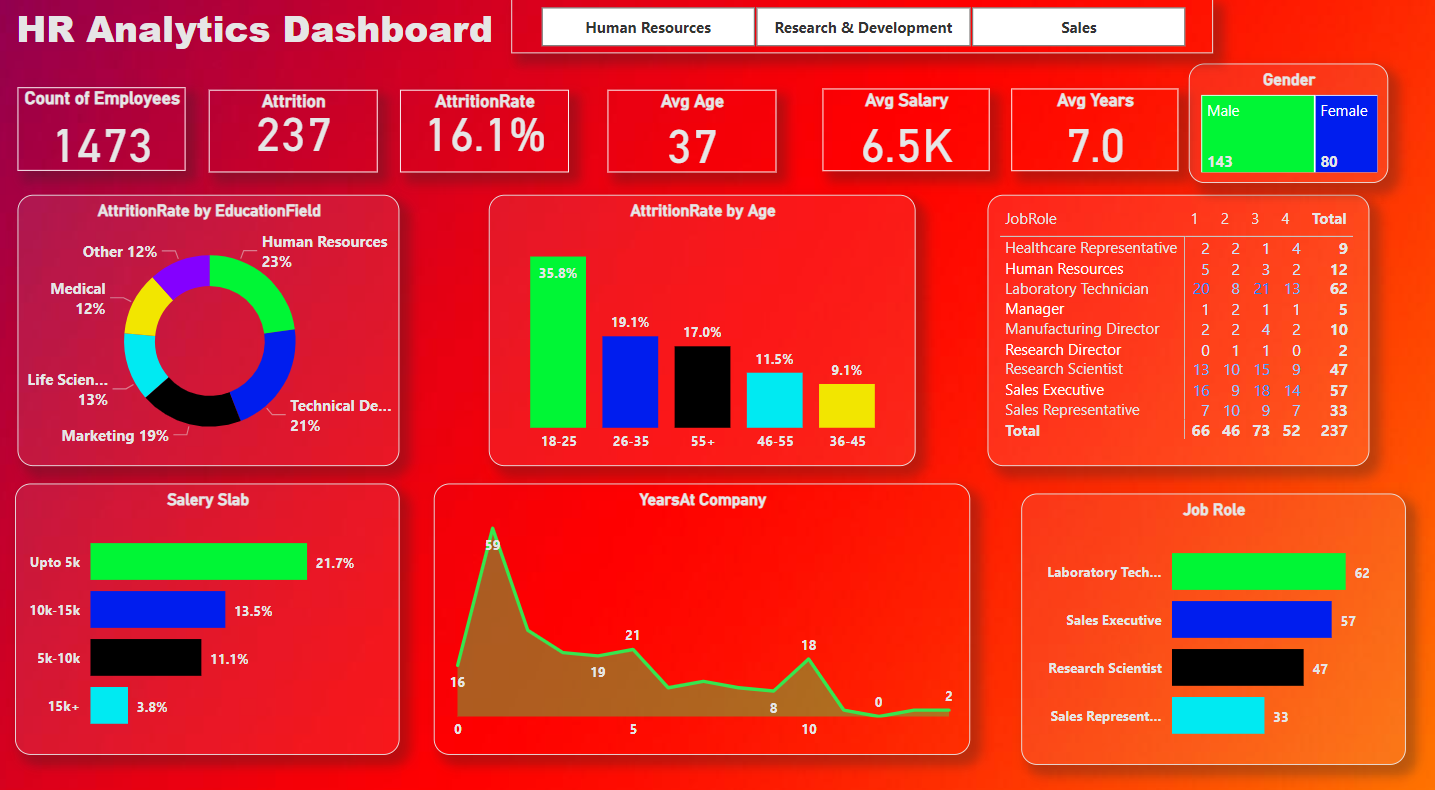

Layout of this report page (visuals, bound fields, positions):
{"tool":"powerbi","page":{"name":"Page 1","canvas":[1280,720],"ordinal":0},"visuals":[{"type":"card","title":"Count of Employees","fields":{"Values":["CountNonNull(Clean_HR_Analytics.EmpID)"]},"box":[15.7,85.6,149.5,74.8],"z":0},{"type":"card","title":"Avg Years","fields":{"Values":["Avg(Clean_HR_Analytics.YearsAtCompany)"]},"box":[900,86.2,148.8,73.8],"z":1000},{"type":"card","title":"Avg Age","fields":{"Values":["Avg(Clean_HR_Analytics.Age)"]},"box":[541.2,87.5,150,73.8],"z":2000},{"type":"card","title":"AttritionRate","fields":{"Values":["Clean_HR_Analytics.AttritionRate"]},"box":[356.2,87.5,150,73.8],"z":3000},{"type":"card","title":"Attrition","fields":{"Values":["Sum(Clean_HR_Analytics.Attrition_convert)"]},"box":[186.2,87.5,150,73.8],"z":4000},{"type":"card","title":"Avg Salary","fields":{"Values":["Avg(Clean_HR_Analytics.MonthlyIncome)"]},"box":[732.5,86.2,148.8,73.8],"z":5000},{"type":"donutChart","fields":{"Category":["Clean_HR_Analytics.EducationField"],"Y":["Clean_HR_Analytics.AttritionRate"]},"box":[15.7,180.9,340.1,241.2],"z":6000},{"type":"columnChart","title":"AttritionRate by Age","fields":{"Category":["Clean_HR_Analytics.AgeGroup"],"Y":["Clean_HR_Analytics.AttritionRate"]},"box":[435,181.2,380,241.2],"z":7000},{"type":"pivotTable","fields":{"Rows":["Clean_HR_Analytics.JobRole"],"Columns":["Clean_HR_Analytics.JobSatisfaction"],"Values":["Sum(Clean_HR_Analytics.Attrition_convert)"]},"box":[878.8,181.2,340,241.2],"z":8000},{"type":"barChart","title":"Salery Slab","fields":{"Category":["Clean_HR_Analytics.SalarySlab"],"Y":["Clean_HR_Analytics.AttritionRate"]},"box":[13.3,439,342.5,241.2],"z":9000},{"type":"barChart","title":"Salery Slab","fields":{"Category":["Clean_HR_Analytics.JobRole"],"Y":["Sum(Clean_HR_Analytics.Attrition_convert)"]},"box":[909.3,447.4,342.5,241.2],"z":10000},{"type":"areaChart","title":"YearsAt Company","fields":{"Category":["Clean_HR_Analytics.YearsAtCompany"],"Y":["Sum(Clean_HR_Analytics.Attrition_convert)"]},"box":[385.9,439,477.6,241.2],"z":11000},{"type":"treemap","title":"Gender","fields":{"Group":["Clean_HR_Analytics.Gender"],"Values":["Sum(Clean_HR_Analytics.Attrition_convert)"]},"box":[1058.8,65,177.5,106.2],"z":12000},{"type":"slicer","fields":{"Values":["Clean_HR_Analytics.Department"]},"box":[455,6.2,625,48.8],"z":13000},{"type":"textbox","box":[0,6,453.5,69.9],"z":14000}]}

Visuals, with their boxes in screenshot pixels (x1, y1, x2, y2), scaled from the page's 1280x720 canvas onto the 1435x790 screenshot:
"Count of Employees" card: [18,94,185,176]
"Avg Years" card: [1009,95,1176,176]
"Avg Age" card: [607,96,775,177]
"AttritionRate" card: [399,96,567,177]
"Attrition" card: [209,96,377,177]
"Avg Salary" card: [821,95,988,176]
donutChart - Clean_HR_Analytics.EducationField x Clean_HR_Analytics.AttritionRate: [18,198,399,463]
"AttritionRate by Age" columnChart: [488,199,914,463]
pivotTable - Clean_HR_Analytics.JobRole x Clean_HR_Analytics.JobSatisfaction: [985,199,1366,463]
"Salery Slab" barChart: [15,482,399,746]
"Salery Slab" barChart: [1019,491,1403,756]
"YearsAt Company" areaChart: [433,482,968,746]
"Gender" treemap: [1187,71,1386,188]
slicer - Clean_HR_Analytics.Department: [510,7,1211,60]
textbox: [0,7,508,83]
